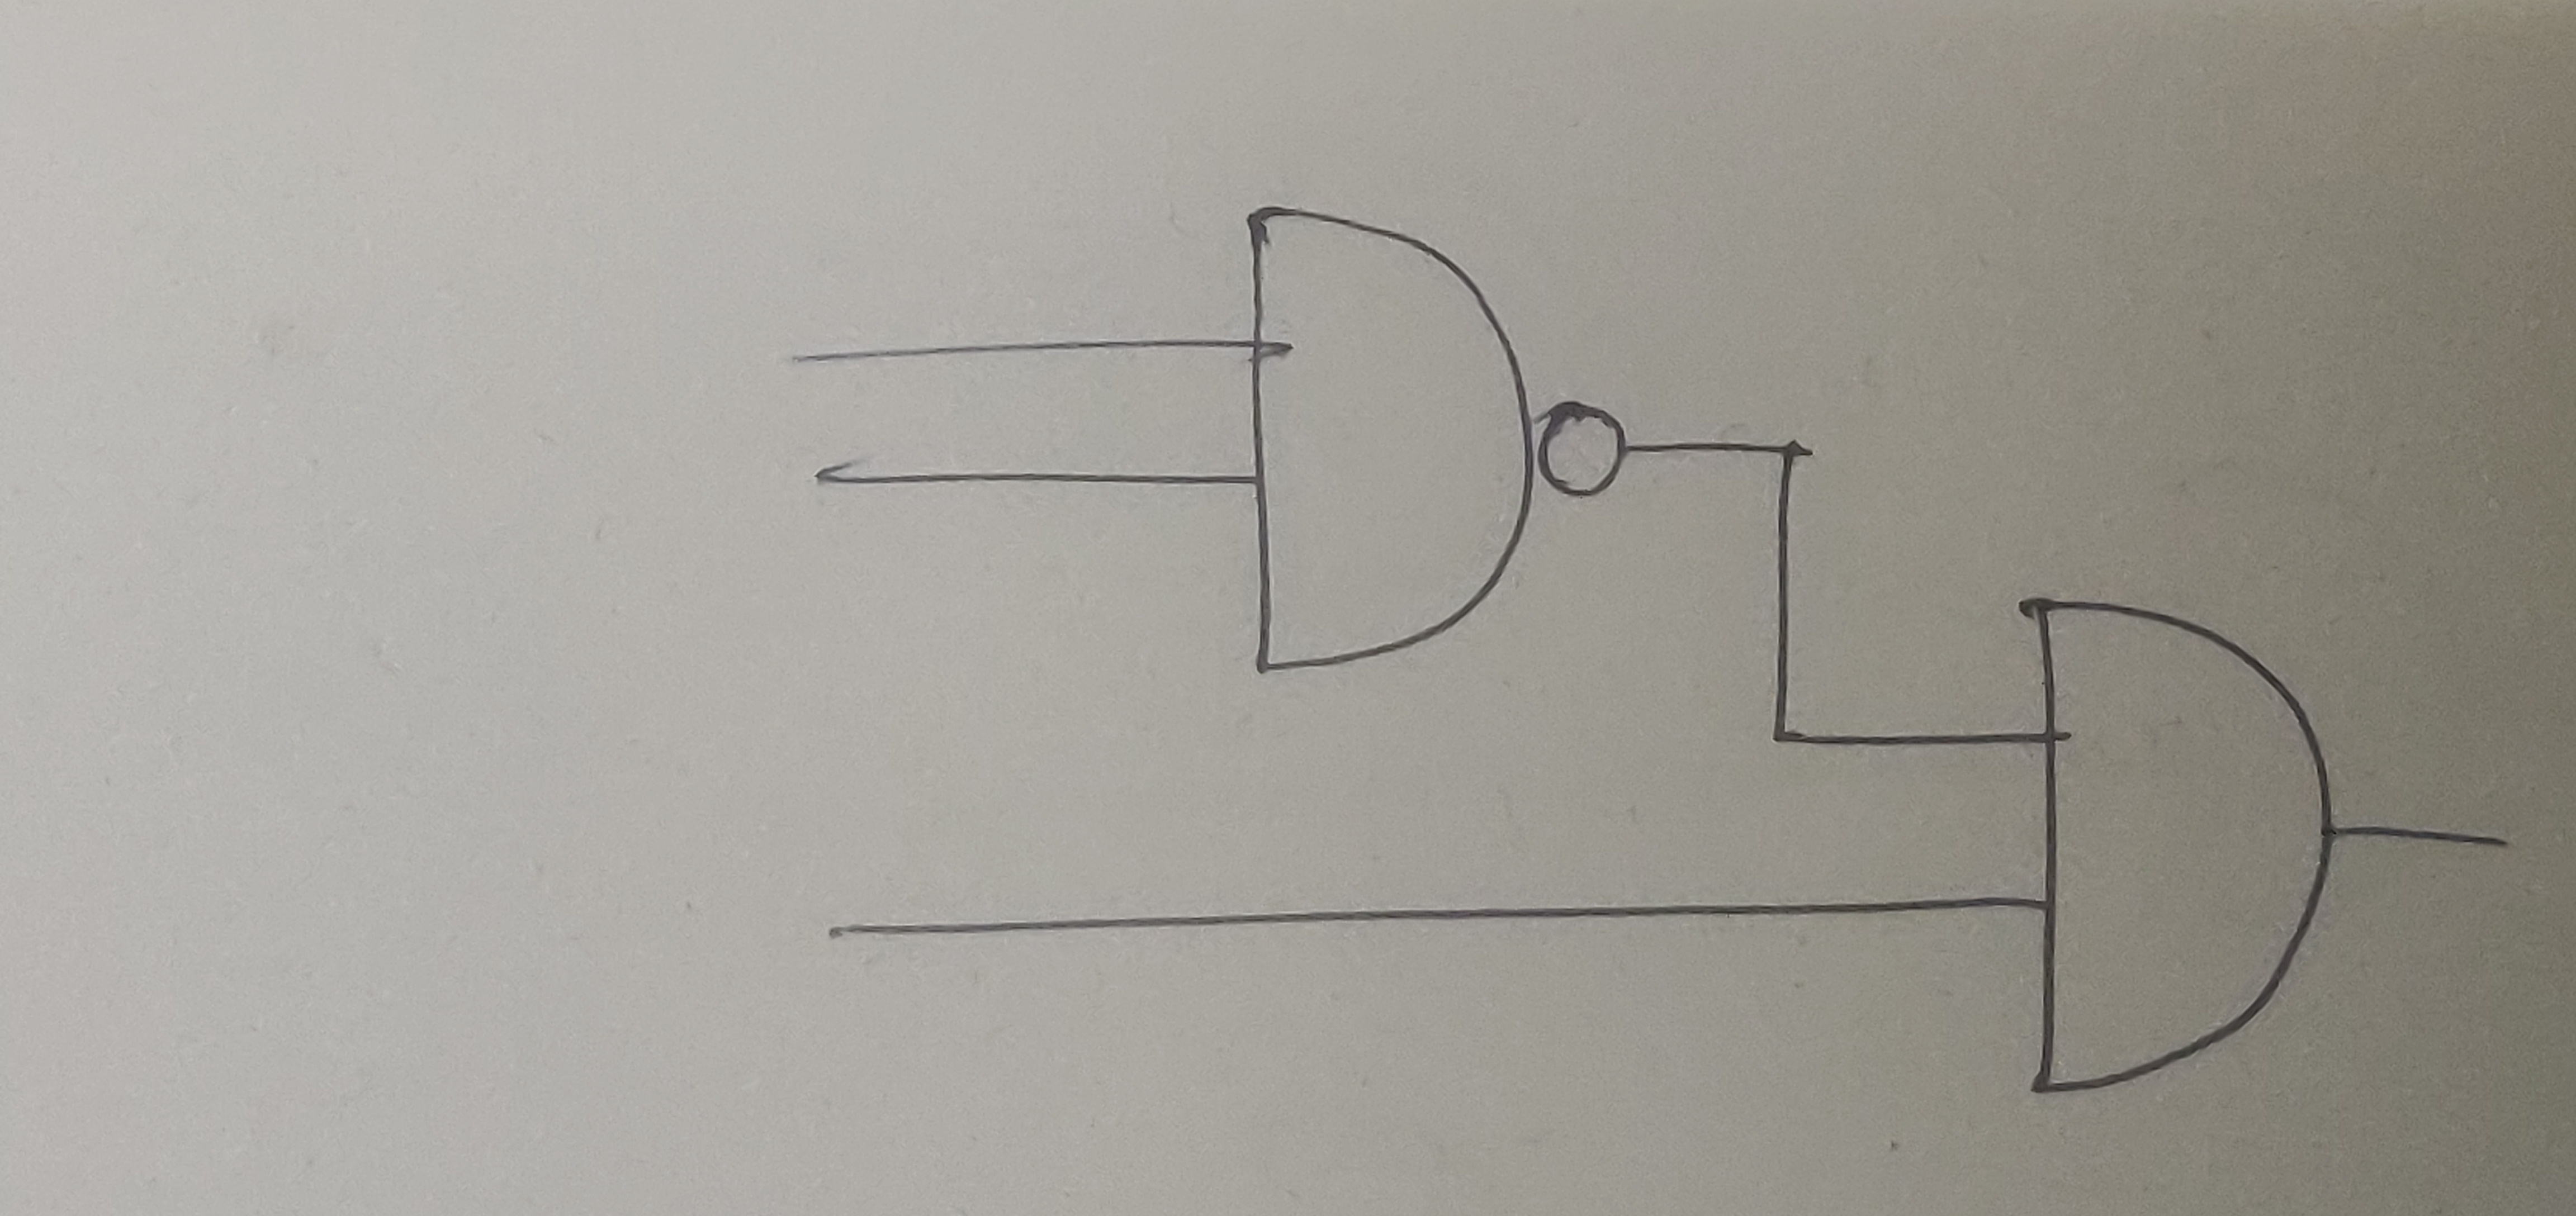and: (2021, 592, 2343, 1098), (1235, 207, 1541, 677)
not: (1538, 394, 1630, 509)
